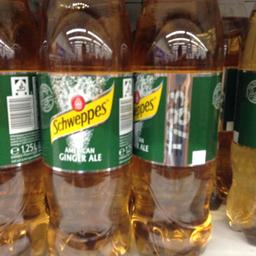soda: (130, 0, 225, 255), (38, 1, 132, 255), (0, 0, 41, 255)
